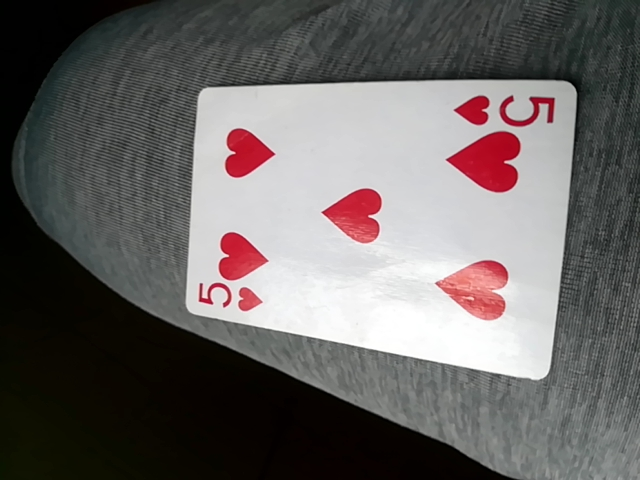hx 5: (188, 76, 582, 378)
